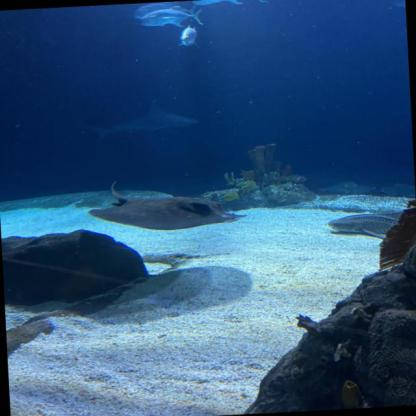fish: (320, 210, 415, 238), (140, 9, 199, 29), (130, 2, 177, 21), (167, 28, 202, 47), (189, 0, 270, 8)
shark: (91, 100, 207, 142)
stingray: (94, 190, 245, 234)
